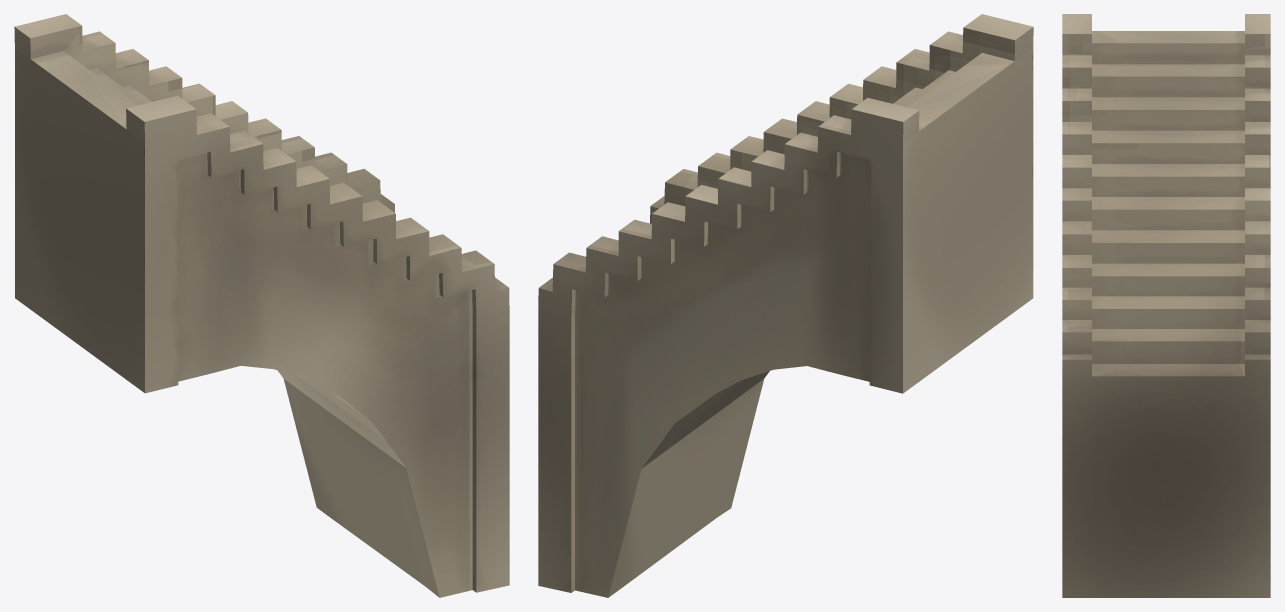
File: stairs.fbx
3 views of the same model, side by side, from view 1: azimuth 30°, elevation 25°; view 2: azimuth 150°, elevation 25°; view 3: azimuth 270°, elevation 25° (orthographic). The views are drawn at different scales.
Parts seen in each view (by area): view 1: stairs; view 2: stairs; view 3: stairs.
Part boxes in pixels (box(x1,y1,x2,y2)): stairs: box(14, 14, 509, 597); stairs: box(538, 14, 1033, 597); stairs: box(1062, 14, 1270, 597).
Size of the model in its own units: 515 by 745 by 318.
